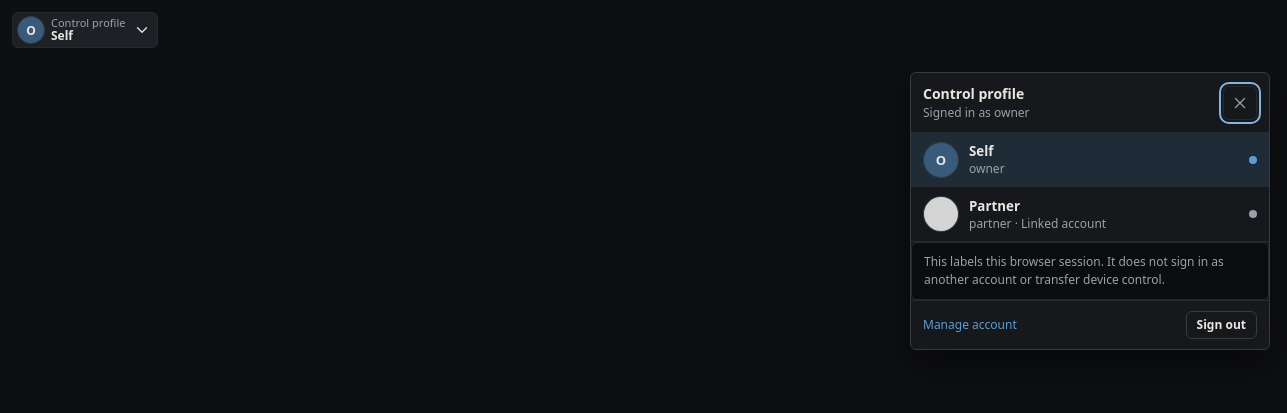
Test: ControlIdentitySelector › keeps the selector open and reports a rejected context change
The image size is (1287, 413).
Click the radio button labelled "Partner partner · Linked account": (1090, 214) left=911, top=187, right=1269, bottom=241
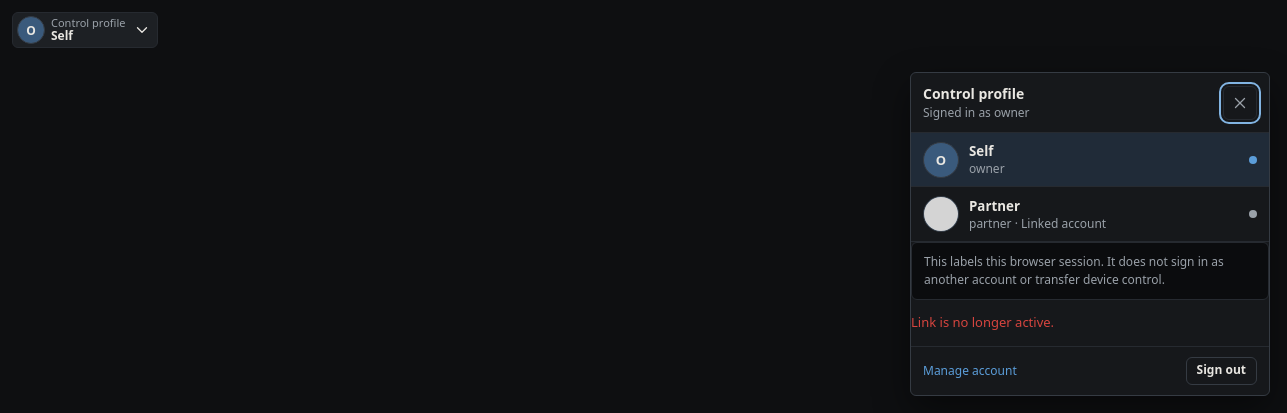
Now the message reads "Link is no longer active.", box left=911, top=313, right=1054, bottom=331
